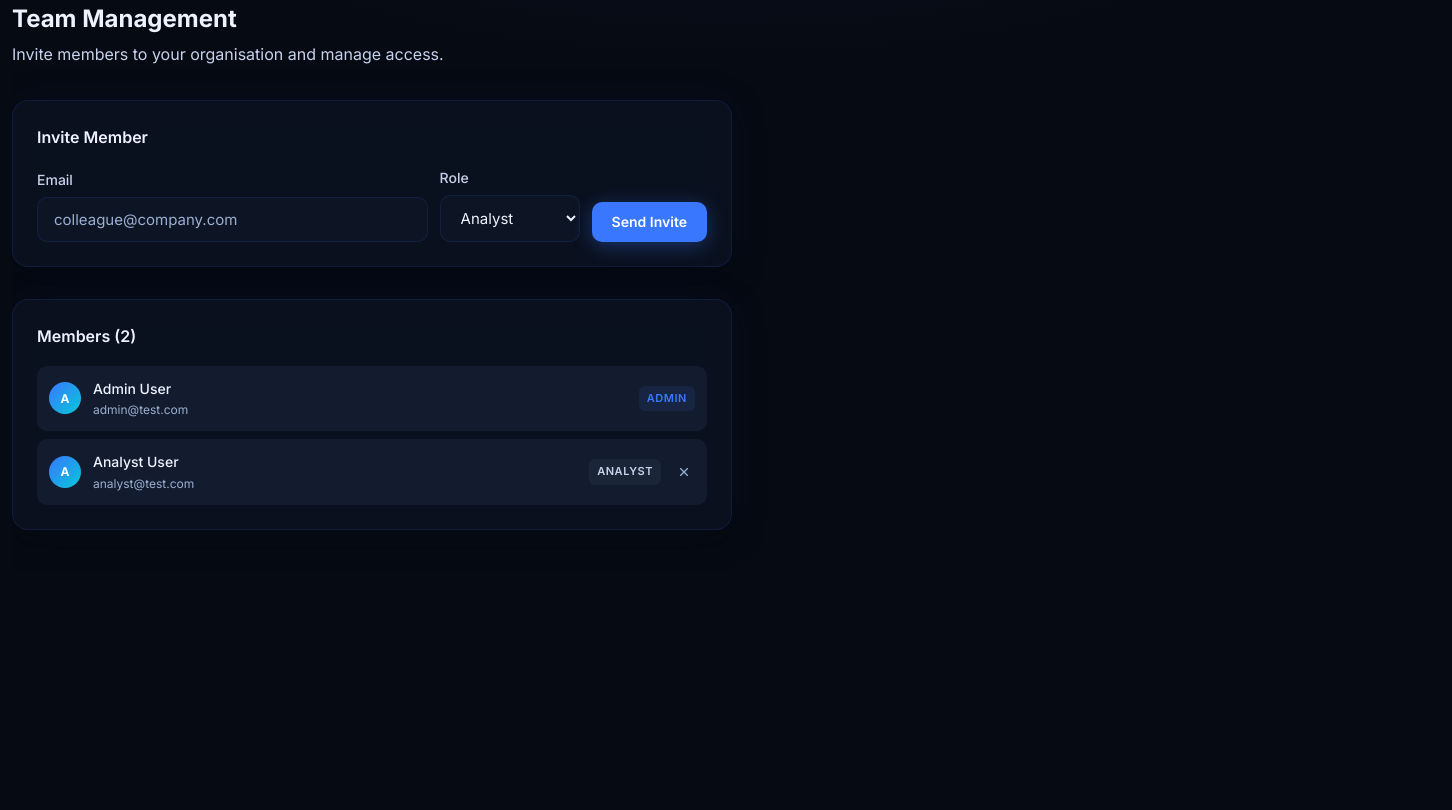
Test case: TeamView › remove member (toast.undo) › optimistically removes the row and shows Undo toast
Click the button named "Remove analyst@test.com" at point(684, 472), box [673,461,695,483]
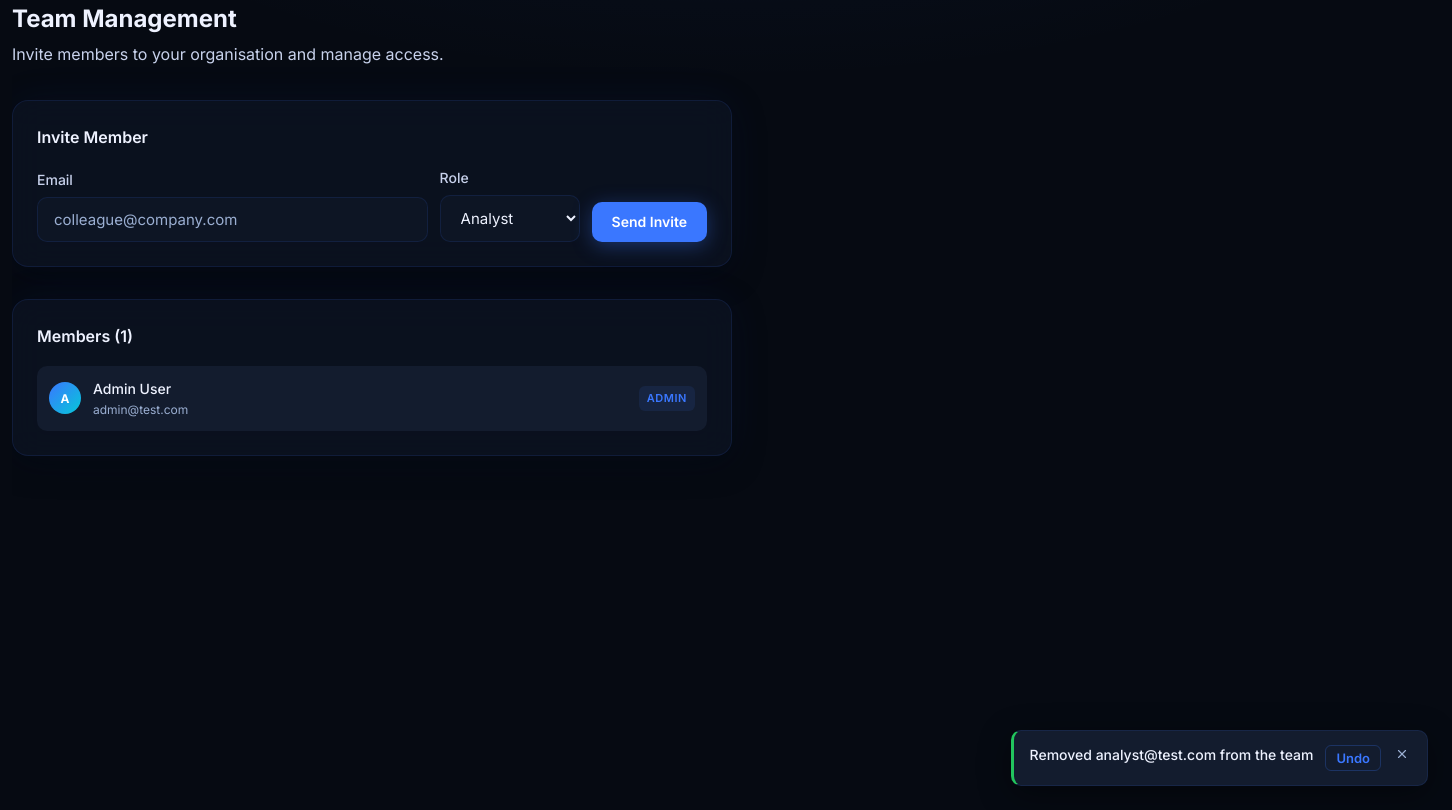
Expected: the text "Analyst User" is gone
Expected: the text "Removed analyst@test.com from the team" is shown, [1030,745,1313,765]
Expected: the button "Undo" is shown, [1325,745,1381,771]
